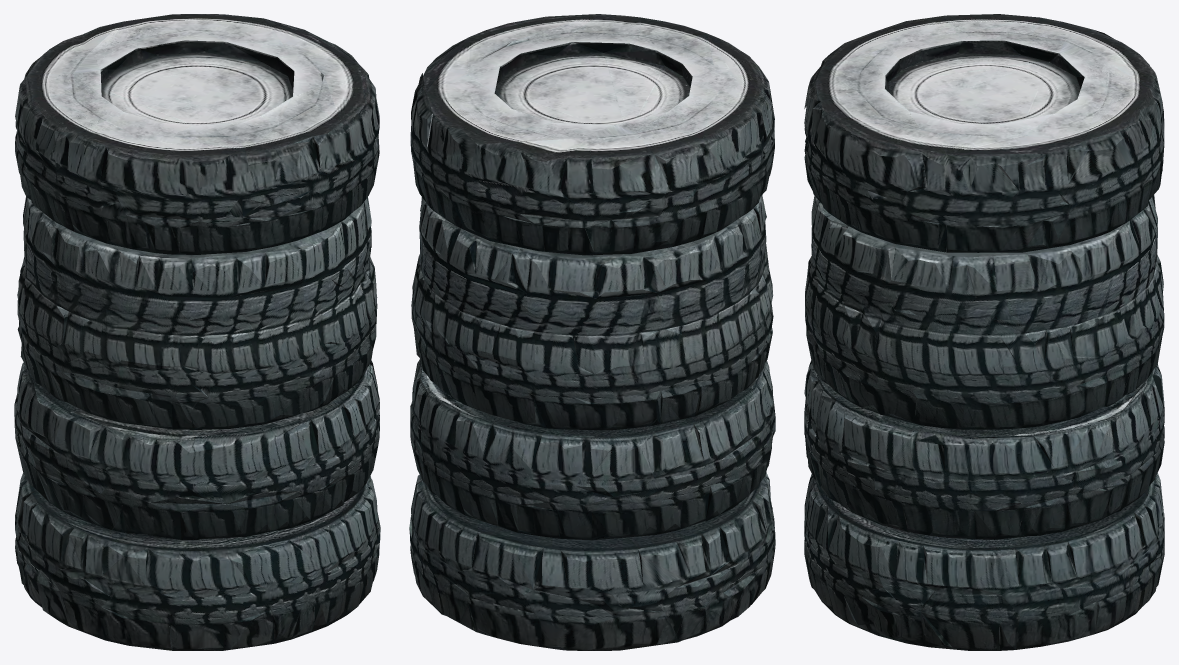
Rendered from garage_tyres.glb.
3 views of the same model, side by side, from view 1: azimuth 30°, elevation 25°; view 2: azimuth 150°, elevation 25°; view 3: azimuth 270°, elevation 25° (orthographic).
Size of the model in its own units: 1.24 by 1.9 by 1.24.
1 material, 1 textured.
